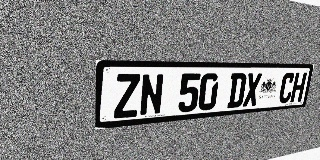0: (197, 73, 219, 111)
5: (178, 73, 201, 113)
C: (278, 73, 296, 104)
D: (227, 73, 247, 108)
H: (290, 73, 307, 102)
N: (139, 74, 164, 116)
X: (242, 73, 262, 107)
Z: (114, 74, 140, 119)
